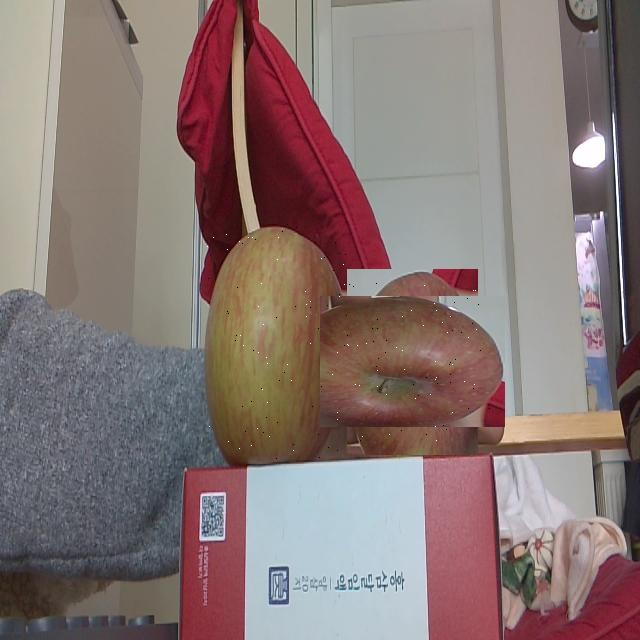apple: (206, 223, 348, 461), (333, 283, 492, 441)
